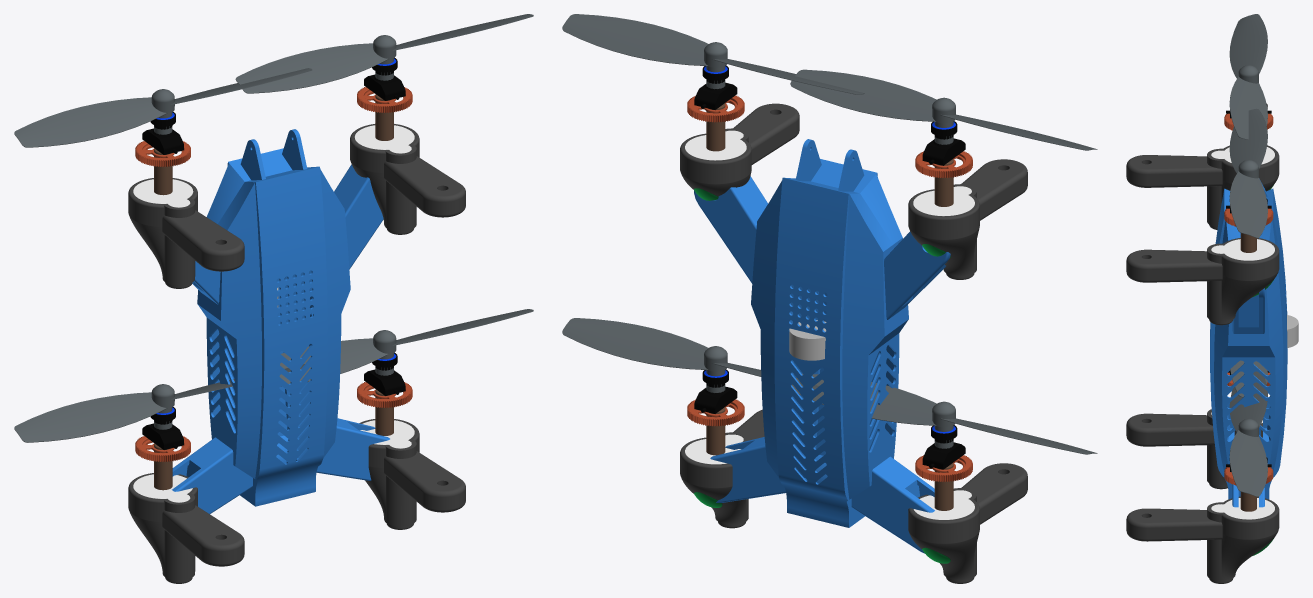
The model's file is Drone_assembled.glb.
3 views of the same model, side by side, from view 1: azimuth 30°, elevation 25°; view 2: azimuth 150°, elevation 25°; view 3: azimuth 270°, elevation 25° (orthographic). The views are drawn at different scales.
Visible parts, largest first — view 1: Frame Right, Leg_FL, Leg_FR, Leg_RL, Frame Left, Leg_RR, Prop_FL, Prop_FR, Prop_RL, Prop_RR, Disc_FR, Disc_FL (+6 smaller); view 2: Frame Left, Leg_FL, Leg_RL, Frame Right, Leg_FR, Prop_FR, Prop_FL, Prop_RR, Leg_RR, Prop_RL, Disc_RL, Disc_FL (+7 smaller); view 3: Leg_FR, Leg_RR, Frame Left, Frame Right, Leg_FL, Prop_FR, Prop_FL, Leg_RL, Prop_RR, Prop_RL, Camera, Shaft_RR (+1 smaller).
Boxes of the visible parts, x1=… form: Frame Right: x1=172, y1=130, x2=389, y2=513; Leg_FL: x1=128, y1=178, x2=244, y2=288; Leg_FR: x1=350, y1=124, x2=465, y2=234; Leg_RL: x1=128, y1=473, x2=244, y2=583; Frame Left: x1=172, y1=129, x2=375, y2=497; Leg_RR: x1=359, y1=419, x2=465, y2=529; Prop_FL: x1=14, y1=68, x2=311, y2=147; Prop_FR: x1=235, y1=14, x2=533, y2=93; Prop_RL: x1=14, y1=364, x2=304, y2=442; Prop_RR: x1=279, y1=309, x2=533, y2=386; Disc_FR: x1=364, y1=57, x2=405, y2=100; Disc_FL: x1=142, y1=112, x2=183, y2=154; Frame Left: x1=694, y1=140, x2=950, y2=553; Leg_FL: x1=908, y1=159, x2=1027, y2=279; Leg_RL: x1=908, y1=463, x2=1027, y2=583; Frame Right: x1=725, y1=139, x2=945, y2=518; Leg_FR: x1=680, y1=103, x2=799, y2=200; Prop_FR: x1=562, y1=14, x2=864, y2=94; Prop_FL: x1=790, y1=69, x2=1097, y2=150; Prop_RR: x1=562, y1=318, x2=818, y2=392; Leg_RR: x1=680, y1=409, x2=764, y2=528; Prop_RL: x1=792, y1=373, x2=1097, y2=454; Disc_RL: x1=922, y1=425, x2=965, y2=469; Disc_FL: x1=922, y1=121, x2=965, y2=165; Leg_FR: x1=1126, y1=238, x2=1279, y2=325; Leg_RR: x1=1126, y1=496, x2=1279, y2=583; Frame Left: x1=1248, y1=180, x2=1287, y2=507; Frame Right: x1=1210, y1=188, x2=1248, y2=507; Leg_FL: x1=1126, y1=145, x2=1279, y2=229; Prop_FR: x1=1229, y1=108, x2=1267, y2=238; Prop_FL: x1=1229, y1=14, x2=1267, y2=139; Leg_RL: x1=1126, y1=409, x2=1262, y2=489; Prop_RR: x1=1229, y1=368, x2=1267, y2=496; Prop_RL: x1=1230, y1=360, x2=1267, y2=397; Camera: x1=1287, y1=315, x2=1298, y2=347; Shaft_RR: x1=1240, y1=492, x2=1256, y2=511.
Size of the model in its own units: 0.254 by 0.2265 by 0.0844.
